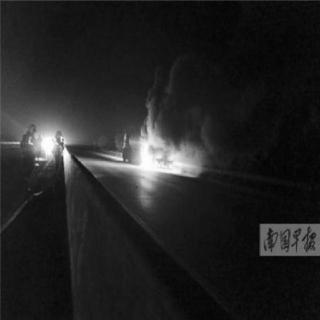Fire: (121, 121, 188, 173)
Smoke: (152, 8, 304, 166)
other: (29, 126, 67, 172)
